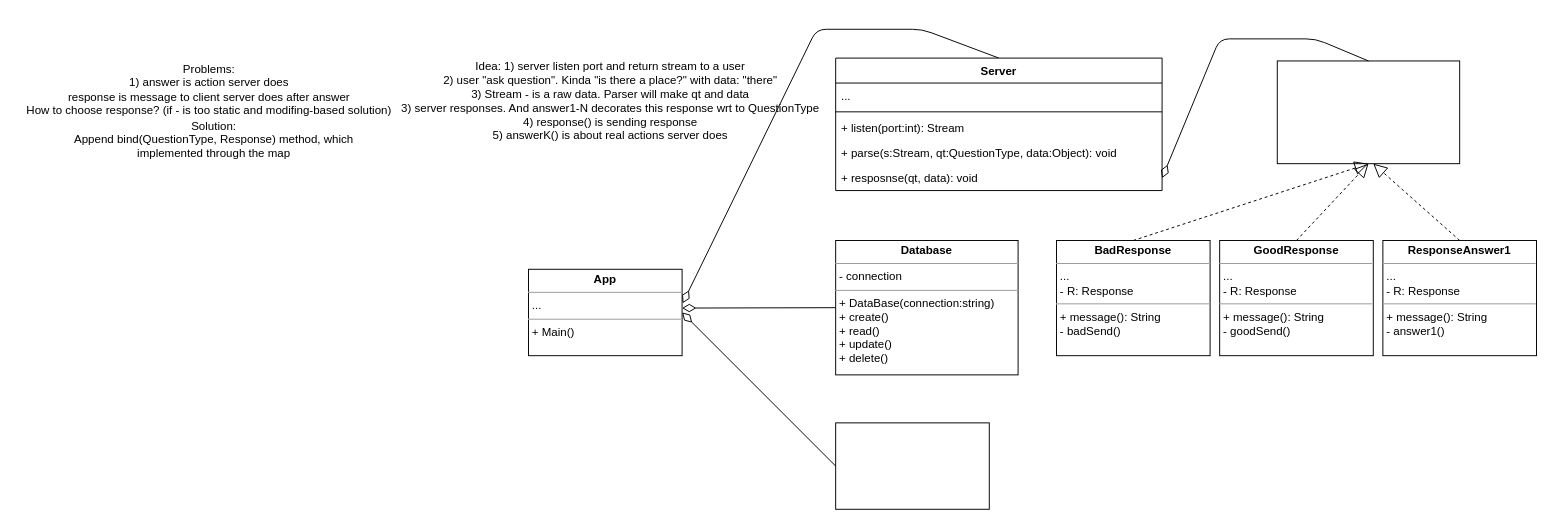
The diagram is 1553 pixels wide and 526 high, and some of its shapes have lost their labels. The shapes that lost their labels are listed below. From the top down, each one's centre as x and y in pixels, then its label:
point 1368,112: <<Interface>> Response ... + message(): String
point 912,465: PaymentSystem ... + createTransaction()
